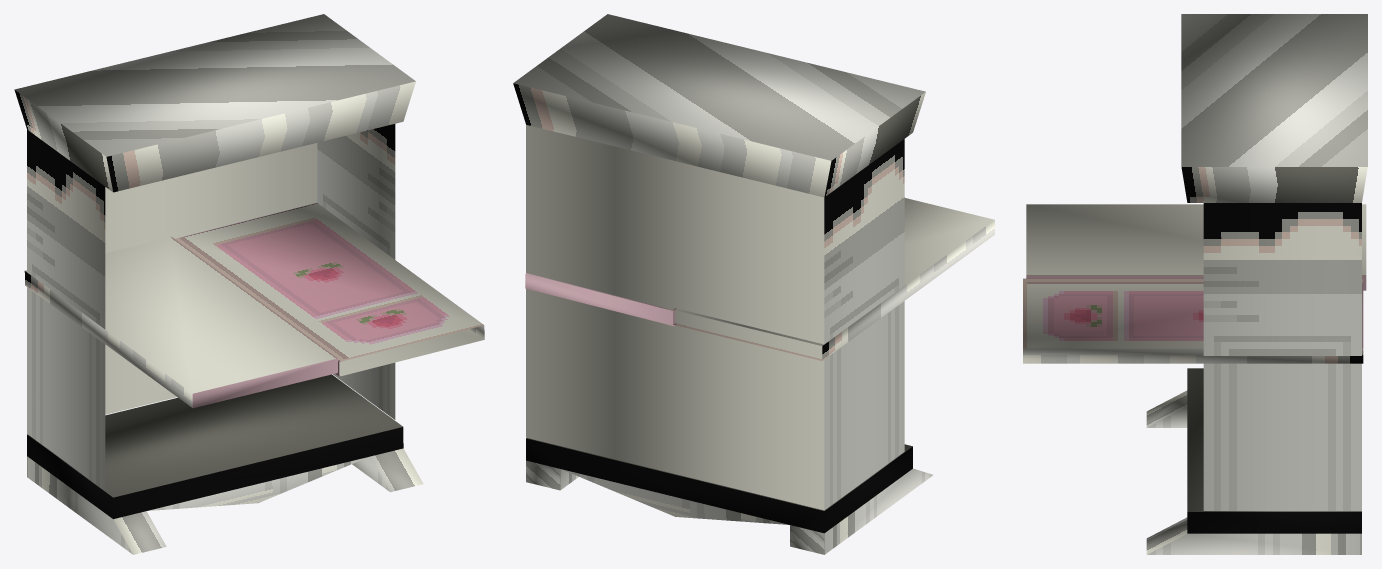
3 renders of one model, left to right at view 1: azimuth 30°, elevation 25°; view 2: azimuth 150°, elevation 25°; view 3: azimuth 270°, elevation 25°, orthographic. The views are drawn at different scales.
Parts seen in each view (by area): view 1: 3074IMRL05_02; view 2: 3074IMRL05_02; view 3: 3074IMRL05_02.
Boxes of the visible parts, x1,y1,x2,y2 form: 3074IMRL05_02: [14, 14, 484, 554]; 3074IMRL05_02: [513, 14, 994, 554]; 3074IMRL05_02: [1023, 14, 1367, 554].
Size of the model in its own units: 1.65 by 1.97 by 1.57.
2 materials, 2 textured.
